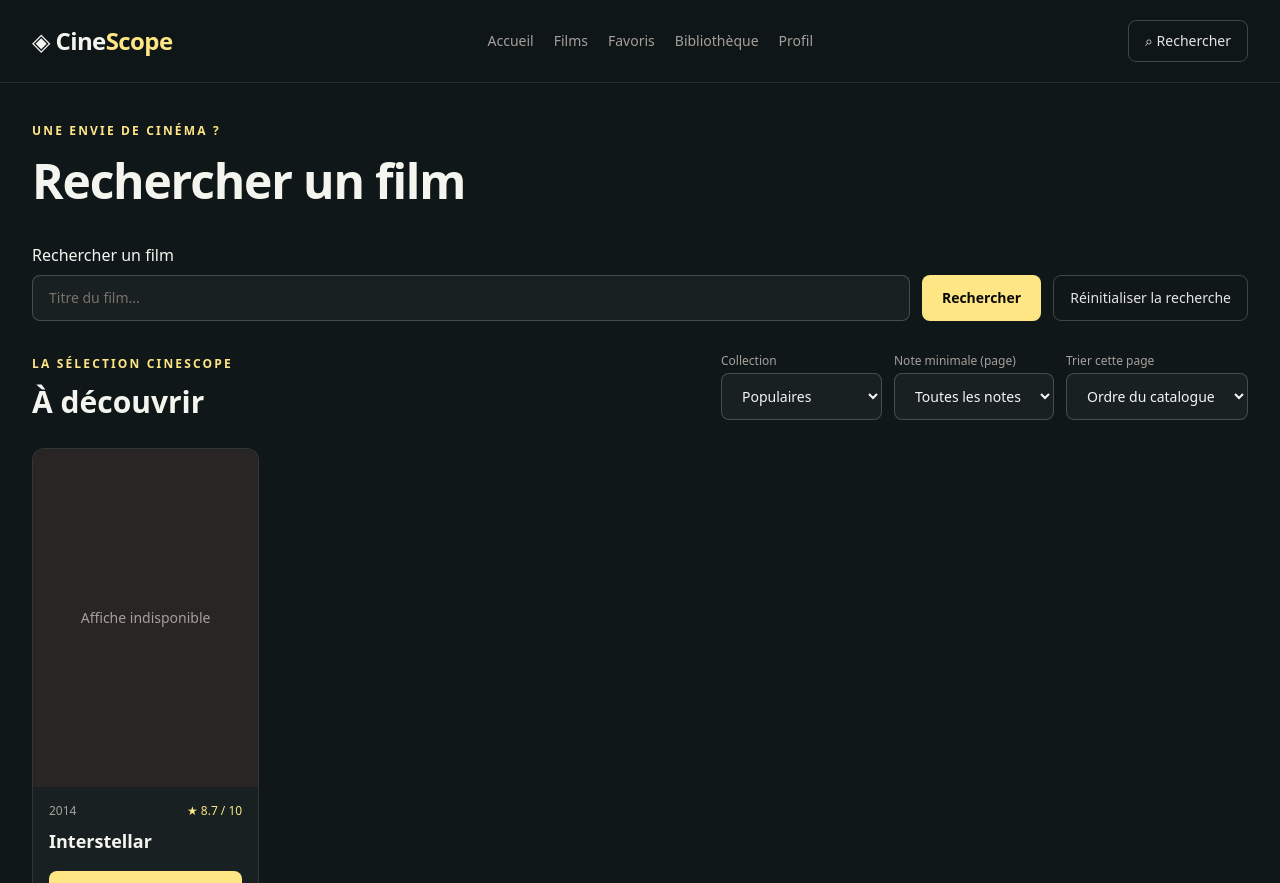
Scenario: TMDB et navigation › recherche, affiche les résultats vides et réinitialise
Expected: the heading "Interstellar" is shown, [49,829,152,853]
Type "absent" into the field labelled "Rechercher un film".
click(471, 298); type("absent")  # box [32,275,910,321]
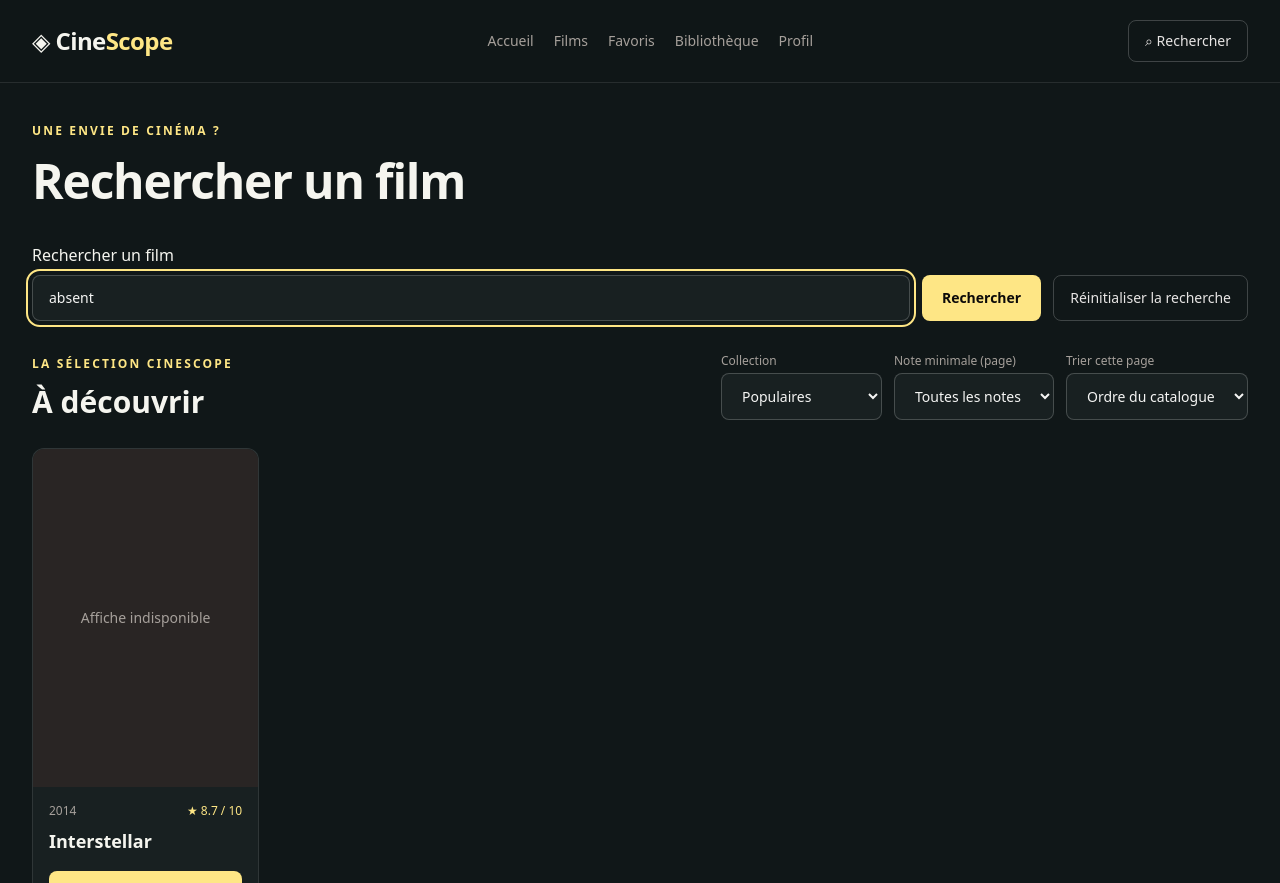
Click the button "Rechercher".
click(982, 298)  # box [922,275,1041,321]
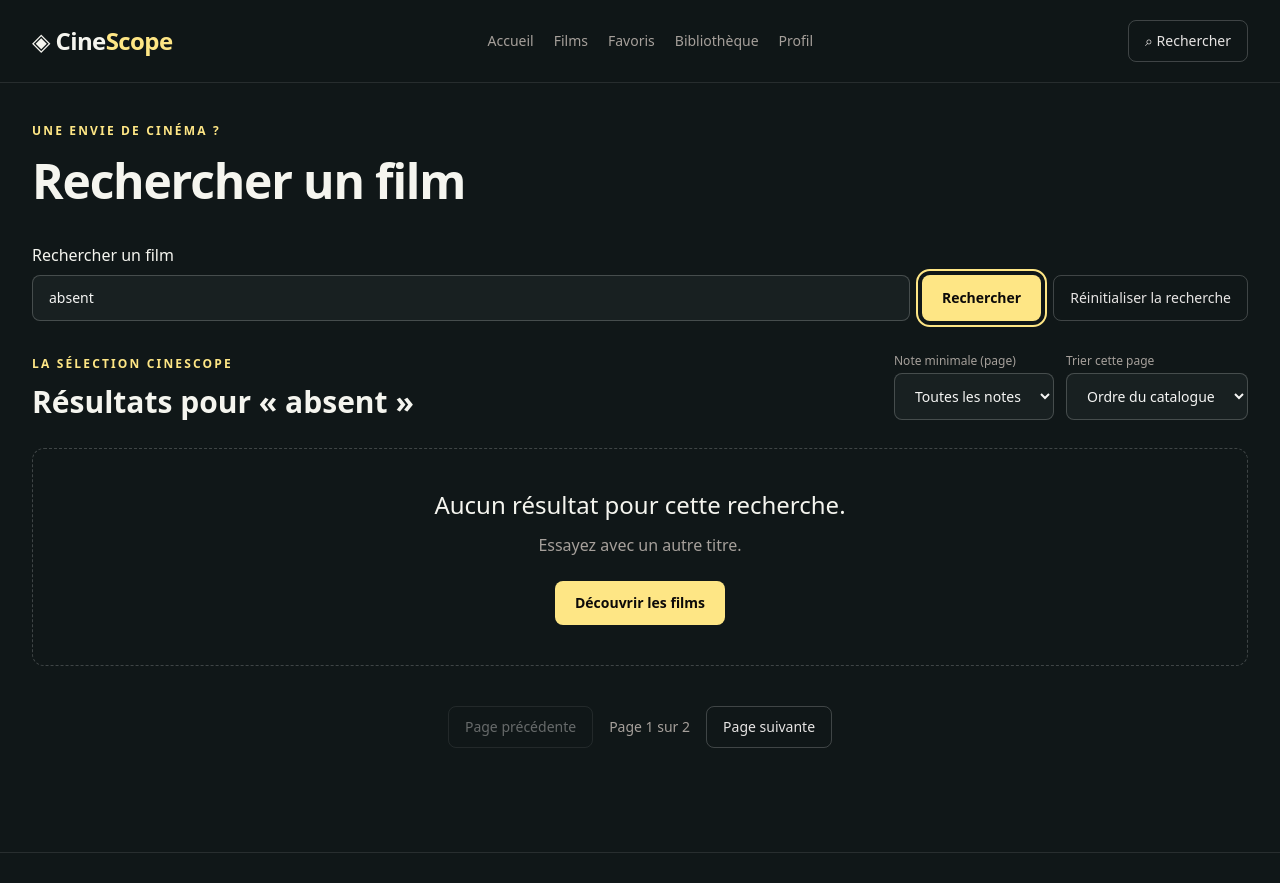
Now the heading "Aucun résultat pour cette recherche." is shown, box [434,488,846,521]
Click the button "Réinitialiser la recherche".
click(1151, 298)  # box [1053,275,1248,321]
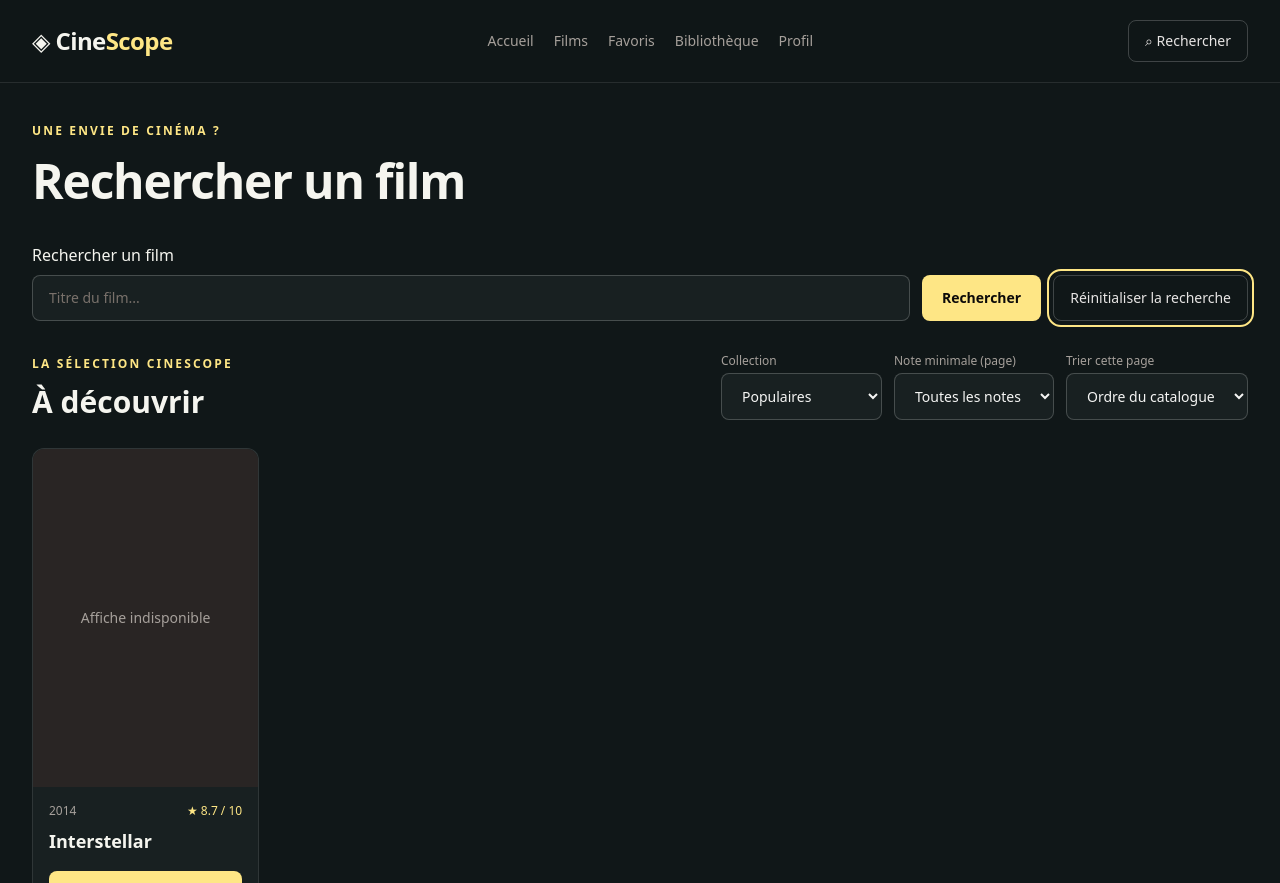
Now the heading "Interstellar" is shown, box [49,829,152,853]
Now the field labelled "Rechercher un film" is empty, box [32,275,910,321]
